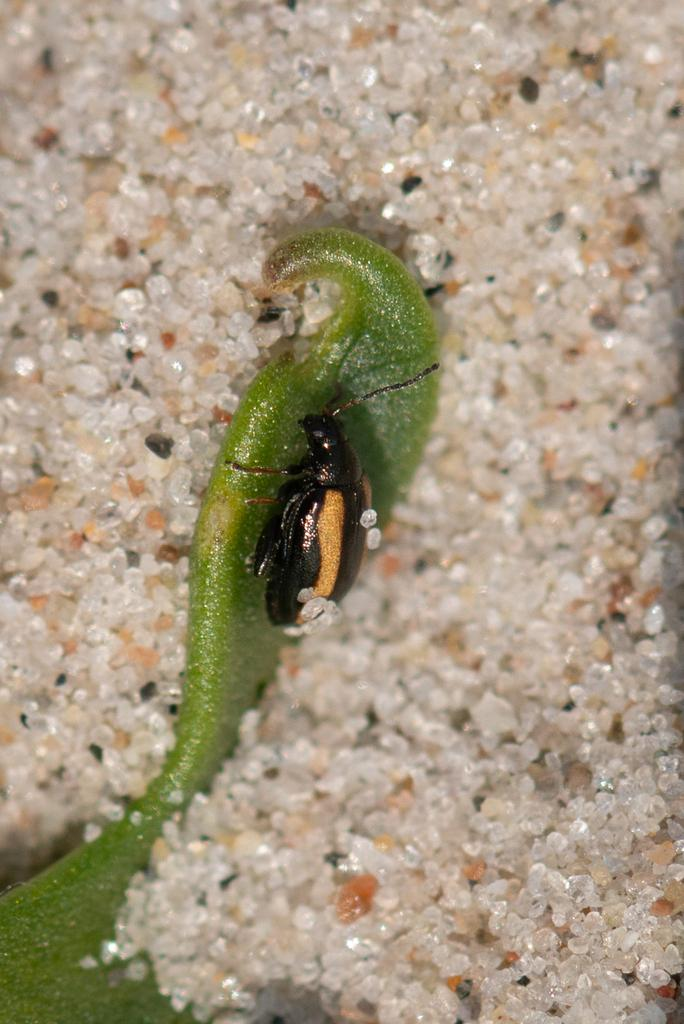flea_beetle: (178, 332, 467, 683)
